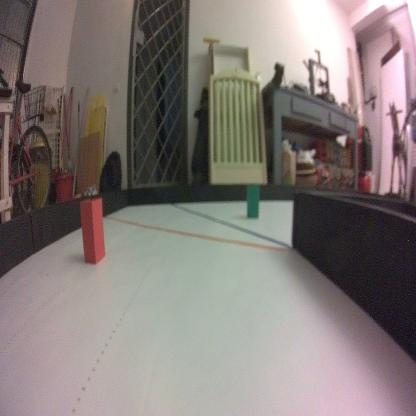green: (246, 183, 260, 220)
red: (78, 198, 106, 266)
